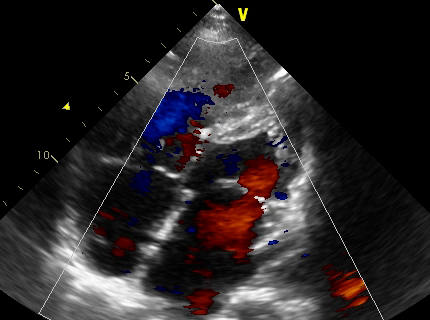TR: (133, 149, 180, 195)
